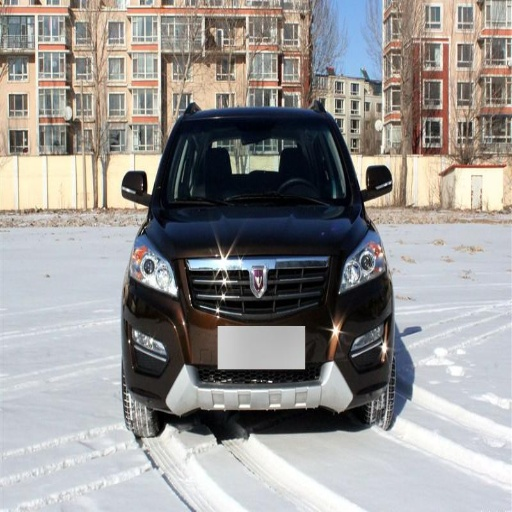front_bumper: (127, 253, 390, 414)
front_right_light: (130, 236, 179, 298)
hood: (146, 204, 370, 257)
